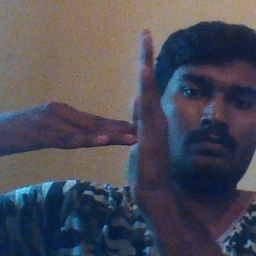Z: (52, 24, 175, 198)
